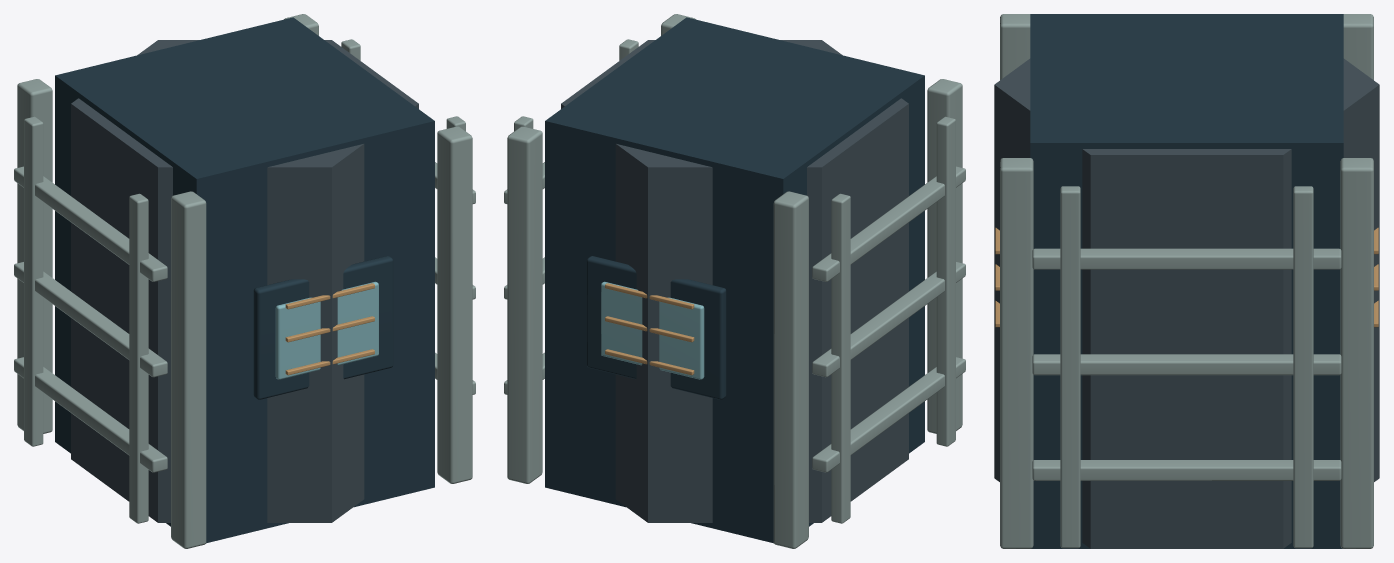
The model's file is receiver-shaft-0.glb.
3 renders of one model, left to right at view 1: azimuth 30°, elevation 25°; view 2: azimuth 150°, elevation 25°; view 3: azimuth 270°, elevation 25°, orthographic. The views are drawn at different scales.
Visible parts, largest first — view 1: receiver_2, receiver_0, receiver_1, receiver_4, receiver_3; view 2: receiver_2, receiver_0, receiver_1, receiver_4, receiver_3; view 3: receiver_0, receiver_2, receiver_1, receiver_3.
Boxes of the visible parts, left/top/right/bottom form: receiver_2: left=55, top=17, right=434, bottom=543; receiver_0: left=71, top=40, right=418, bottom=522; receiver_1: left=14, top=14, right=475, bottom=548; receiver_4: left=275, top=281, right=378, bottom=379; receiver_3: left=285, top=283, right=374, bottom=375; receiver_2: left=545, top=17, right=924, bottom=543; receiver_0: left=561, top=40, right=908, bottom=522; receiver_1: left=504, top=14, right=965, bottom=548; receiver_4: left=601, top=281, right=704, bottom=379; receiver_3: left=605, top=283, right=694, bottom=375; receiver_0: left=994, top=58, right=1379, bottom=548; receiver_2: left=1030, top=14, right=1343, bottom=548; receiver_1: left=1000, top=14, right=1373, bottom=548; receiver_3: left=995, top=227, right=1378, bottom=327.
Bounding box in the file's own units: 0.94 × 1 × 0.86.
